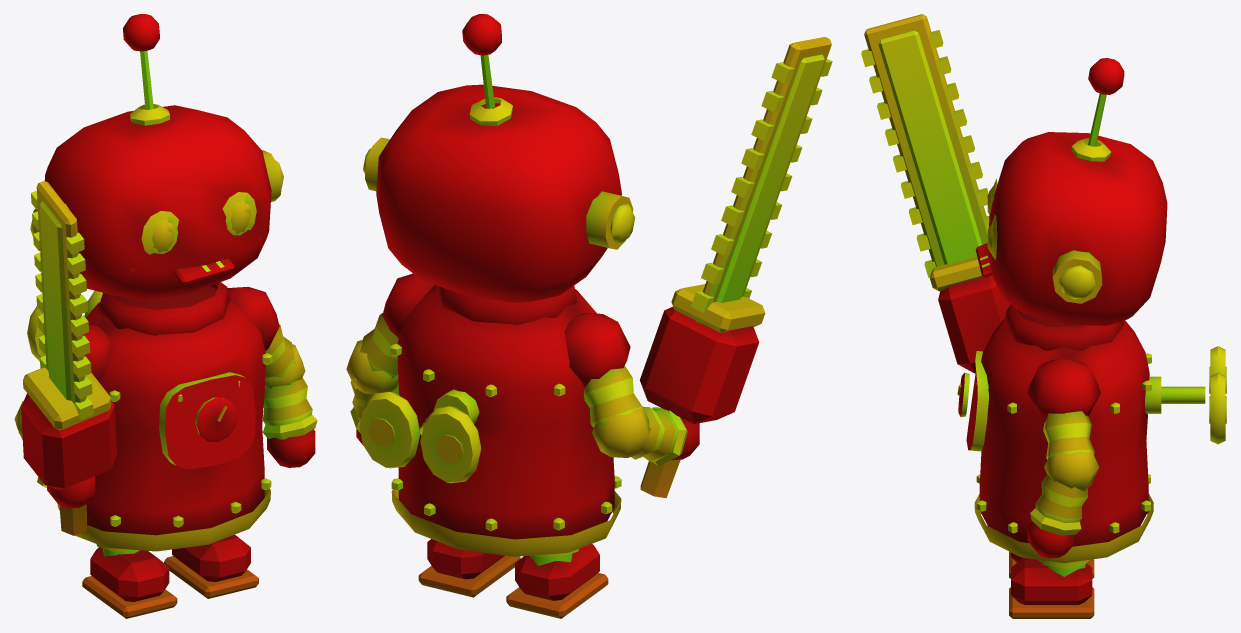
Rendered from RobotWorker_wood.glb.
3 views of the same model, side by side, from view 1: azimuth 30°, elevation 25°; view 2: azimuth 150°, elevation 25°; view 3: azimuth 270°, elevation 25° (orthographic). The views are drawn at different scales.
Parts seen in each view (by area): view 1: RobotWorker_wood; view 2: RobotWorker_wood; view 3: RobotWorker_wood.
Boxes of the visible parts, <box> form: RobotWorker_wood: <box>14,14,317,618</box>; RobotWorker_wood: <box>346,14,832,618</box>; RobotWorker_wood: <box>861,14,1226,618</box>.
Size of the model in its own units: 0.6116 by 0.93 by 0.5823.
